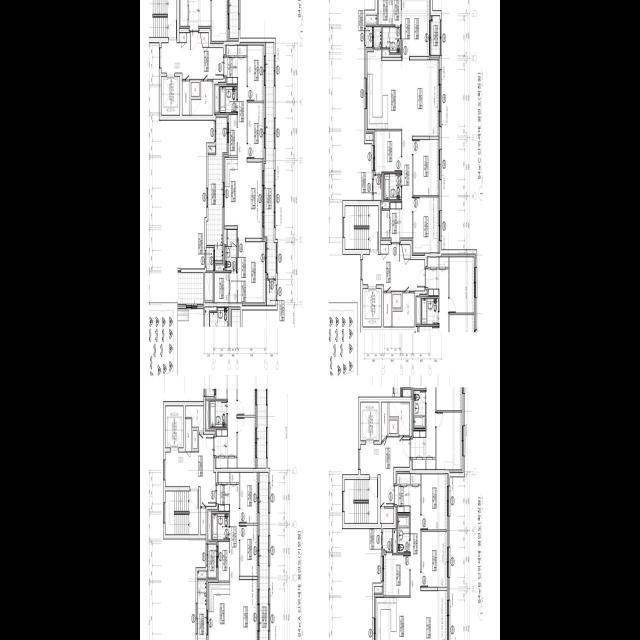background: (140, 0, 500, 640)
space_balconi: (206, 117, 227, 244), (265, 42, 276, 278), (260, 472, 268, 640), (198, 580, 206, 640), (431, 15, 440, 54), (208, 544, 216, 577)
space_bedroom: (238, 241, 265, 302), (402, 0, 429, 56), (413, 139, 439, 195), (413, 196, 439, 252), (421, 474, 447, 529), (422, 531, 447, 586), (384, 554, 410, 595), (375, 131, 401, 171), (240, 525, 258, 575), (248, 45, 264, 100), (248, 103, 264, 158), (240, 472, 257, 522)
space_dressroom: (215, 272, 237, 302), (379, 0, 401, 24)
space_elevator: (165, 406, 183, 447), (363, 288, 381, 326), (162, 76, 180, 114), (361, 402, 379, 440)
space_elevator_hall: (165, 434, 216, 506), (361, 437, 409, 505), (161, 32, 223, 79), (363, 244, 425, 290)
space_front: (395, 473, 410, 512), (217, 472, 230, 511), (390, 201, 402, 242), (224, 57, 237, 84)
space_kitchen: (367, 48, 402, 128), (376, 597, 410, 640), (208, 584, 230, 640), (225, 157, 238, 225)
space_living_room: (402, 60, 439, 237), (410, 473, 447, 640), (230, 472, 258, 640), (238, 57, 262, 238)
space_other: (191, 81, 213, 114), (393, 293, 414, 326), (389, 402, 409, 434), (186, 406, 204, 430), (218, 541, 229, 580), (229, 114, 237, 155), (381, 402, 388, 441), (182, 81, 190, 114), (384, 293, 391, 326), (267, 280, 276, 305), (205, 272, 213, 300), (185, 418, 191, 451), (382, 210, 389, 237), (383, 529, 392, 550), (380, 508, 393, 522), (374, 175, 381, 199), (374, 26, 381, 46), (382, 49, 401, 56), (201, 508, 206, 534), (215, 245, 223, 260), (402, 244, 410, 258), (200, 32, 208, 46), (393, 294, 401, 307), (191, 82, 199, 95), (227, 45, 237, 55), (389, 420, 397, 432), (215, 86, 219, 110), (238, 45, 247, 55), (208, 511, 211, 539), (366, 15, 377, 22), (179, 32, 187, 41), (193, 430, 197, 448), (394, 530, 397, 552), (381, 244, 388, 253), (381, 201, 389, 208), (198, 571, 207, 577), (216, 264, 224, 270), (374, 586, 382, 592), (224, 229, 227, 244), (366, 133, 373, 139), (208, 146, 215, 152)
space_outdoor_room: (206, 247, 213, 270), (366, 26, 372, 46)
space_staircase: (345, 479, 378, 523), (165, 490, 198, 534), (345, 206, 378, 249), (144, 0, 177, 37)
space_toilet: (225, 229, 237, 270), (383, 27, 401, 52), (384, 173, 401, 199), (220, 86, 237, 112), (212, 513, 229, 539), (398, 514, 409, 552)
